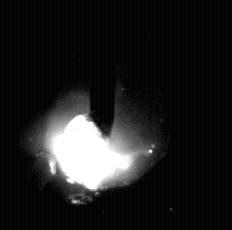arame: (91, 0, 116, 136)
poca: (45, 0, 163, 230)
